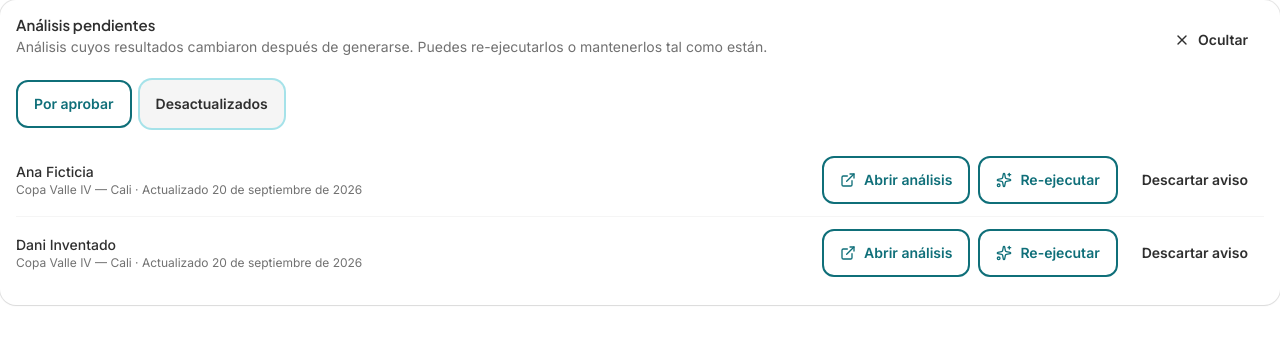
Test: PendingAnalysesPanel — re-ejecutar › un rechazo del backend (429) se muestra inline, no como un falso «iniciado»
The width and height of the screenshot is (1280, 359).
Click the button with aria-label "Re-ejecutar el análisis de Ana Ficticia": [1048, 180] box [978, 156, 1118, 204]
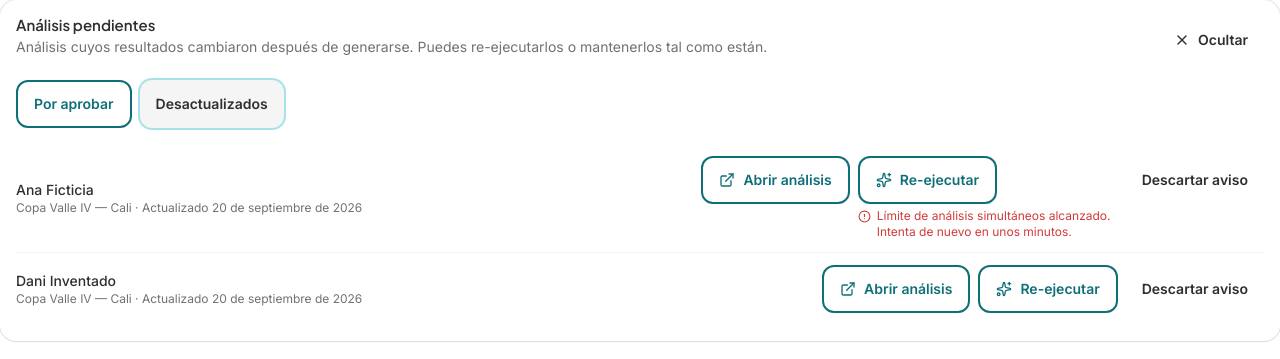
Expected: the message with test id "pending-rerun-error-144" shows "Límite de análisis simultáneos alcanzado", [877, 208, 1110, 239]
